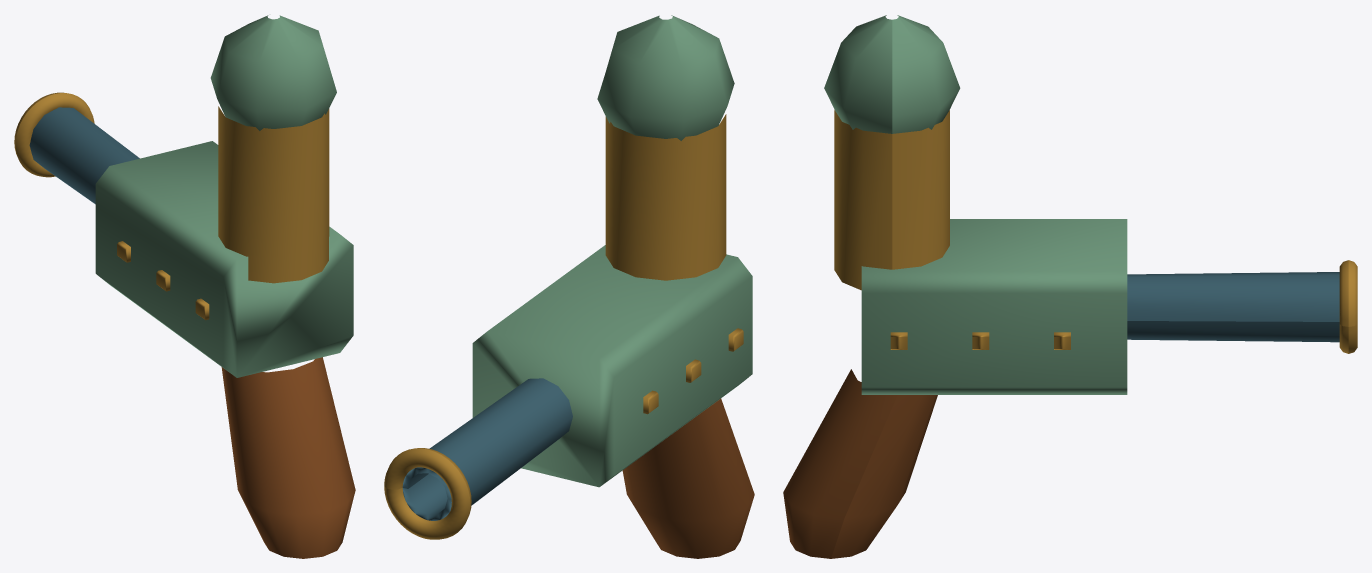
File: weapon_meteor.glb
3 renders of one model, left to right at view 1: azimuth 30°, elevation 25°; view 2: azimuth 150°, elevation 25°; view 3: azimuth 270°, elevation 25°, orthographic. The views are drawn at different scales.
Visible parts, largest first — view 1: ShapedReceiver, Grip, Tank, TankCharge, HollowBarrel0, BarrelCuff0; view 2: ShapedReceiver, Tank, Grip, TankCharge, HollowBarrel0, BarrelCuff0; view 3: ShapedReceiver, Grip, Tank, HollowBarrel0, TankCharge, BarrelCuff0.
Part boxes in pixels (x1,y1,x2,y2): ShapedReceiver: (95, 141, 353, 377); Grip: (221, 357, 355, 558); Tank: (218, 106, 329, 283); TankCharge: (210, 15, 336, 130); HollowBarrel0: (29, 107, 139, 204); BarrelCuff0: (14, 92, 94, 177); ShapedReceiver: (472, 245, 752, 487); Tank: (605, 114, 726, 280); Grip: (622, 398, 754, 558); TankCharge: (597, 15, 734, 140); HollowBarrel0: (402, 378, 572, 520); BarrelCuff0: (384, 448, 471, 539); ShapedReceiver: (861, 219, 1127, 394); Grip: (783, 369, 937, 558); Tank: (834, 110, 949, 290); HollowBarrel0: (1127, 272, 1339, 342); TankCharge: (824, 15, 960, 133); BarrelCuff0: (1339, 260, 1357, 353).
Size of the model in its own units: 0.25 by 0.85 by 0.8433.
